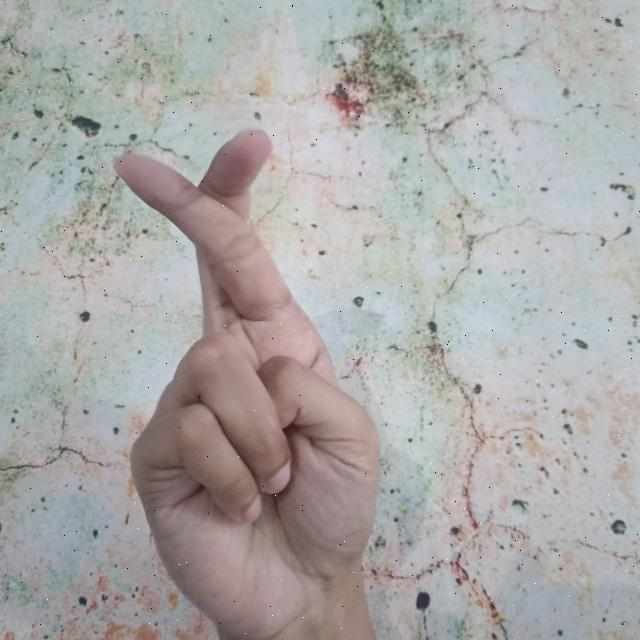R: (110, 125, 381, 640)
